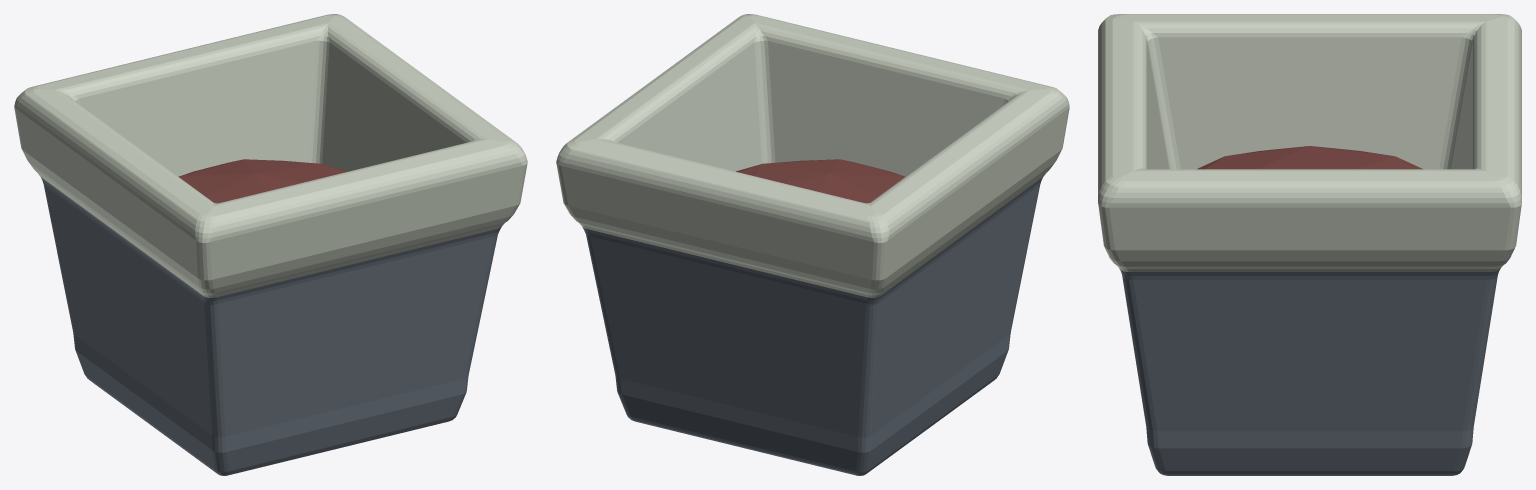
Rendered from trash.fbx.
3 renders of one model, left to right at view 1: azimuth 30°, elevation 25°; view 2: azimuth 150°, elevation 25°; view 3: azimuth 270°, elevation 25°, orthographic. The views are drawn at different scales.
Visible parts, largest first — view 1: Cube; view 2: Cube; view 3: Cube.
Part boxes in pixels (x1,y1,x2,y2): Cube: (14,14,527,475); Cube: (556,14,1069,475); Cube: (1098,14,1521,475).
Bounding box in the file's own units: 261 × 217 × 261.
